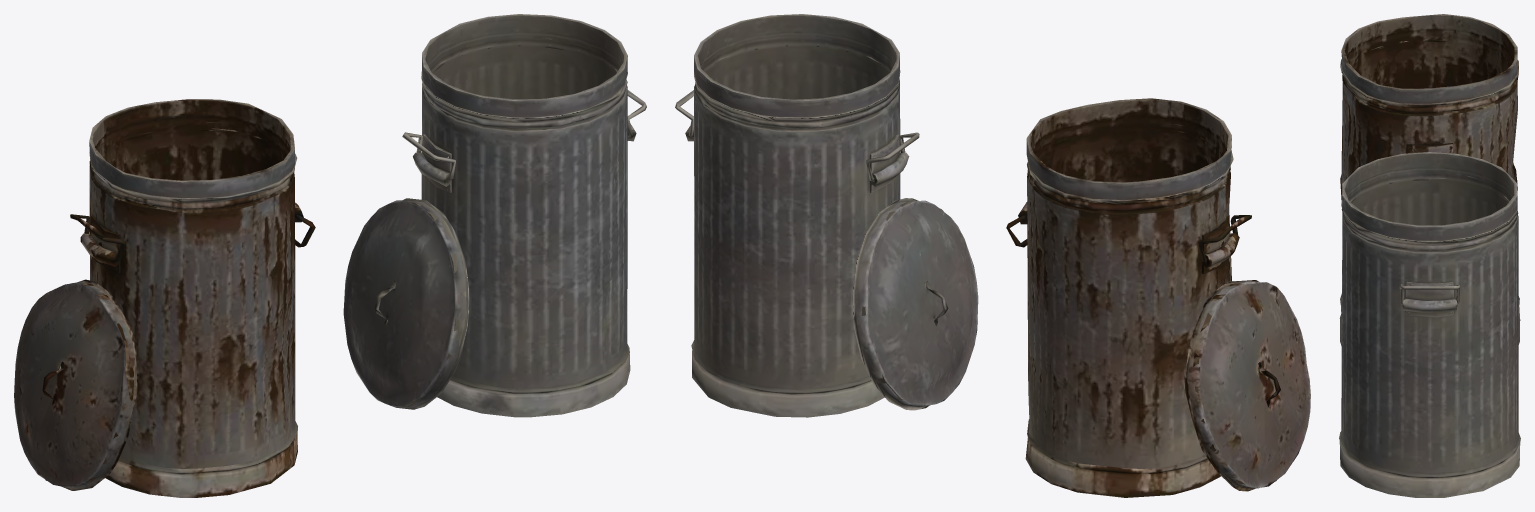
Rendered from metal_trash_can.glb.
3 renders of one model, left to right at view 1: azimuth 30°, elevation 25°; view 2: azimuth 150°, elevation 25°; view 3: azimuth 270°, elevation 25°, orthographic. The views are drawn at different scales.
Visible parts, largest first — view 1: metal_trash_can_handle_left, metal_trash_can_rust; view 2: metal_trash_can_handle_left, metal_trash_can_rust; view 3: metal_trash_can_handle_left, metal_trash_can_rust.
Part boxes in pixels (<box>): metal_trash_can_handle_left: <box>343,14,646,417</box>; metal_trash_can_rust: <box>14,99,315,497</box>; metal_trash_can_handle_left: <box>675,14,978,417</box>; metal_trash_can_rust: <box>1006,98,1310,497</box>; metal_trash_can_handle_left: <box>1339,152,1520,497</box>; metal_trash_can_rust: <box>1340,14,1520,320</box>.
Bounding box in the file's own units: 1.78 × 0.9062 × 0.5524.
Materials: 2 (2 with a texture image).
